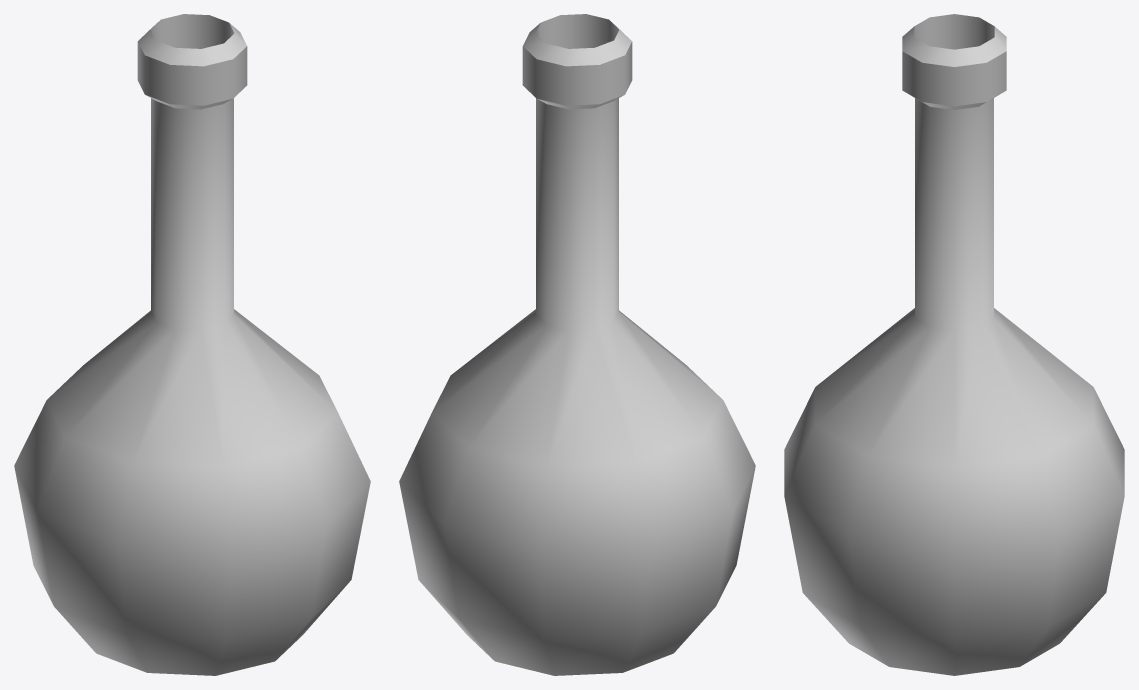
The picture shows the model from 3 angles, left to right: view 1: azimuth 30°, elevation 25°; view 2: azimuth 150°, elevation 25°; view 3: azimuth 270°, elevation 25°; orthographic projection.
Visible parts, largest first — view 1: Cylinder06; view 2: Cylinder06; view 3: Cylinder06.
Part boxes in pixels (x1,y1,x2,y2): Cylinder06: (14, 14, 370, 675); Cylinder06: (399, 14, 755, 675); Cylinder06: (784, 14, 1124, 675).
Size of the model in its own units: 3.29 by 6.05 by 3.13.
